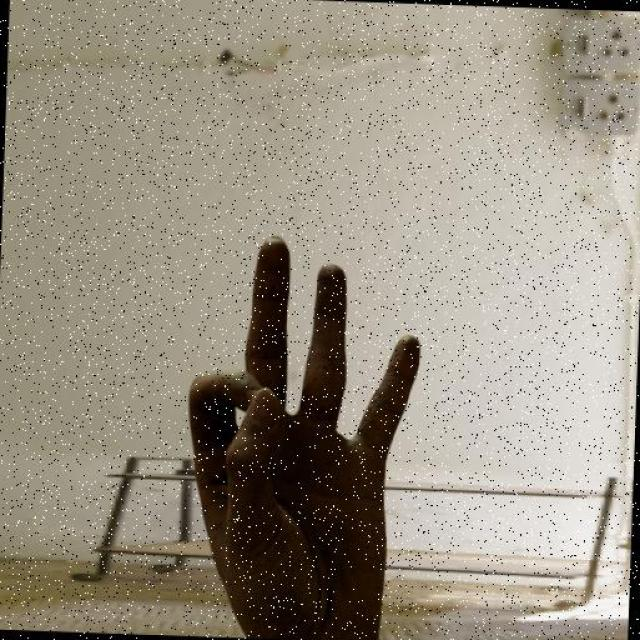F: (178, 229, 430, 640)
